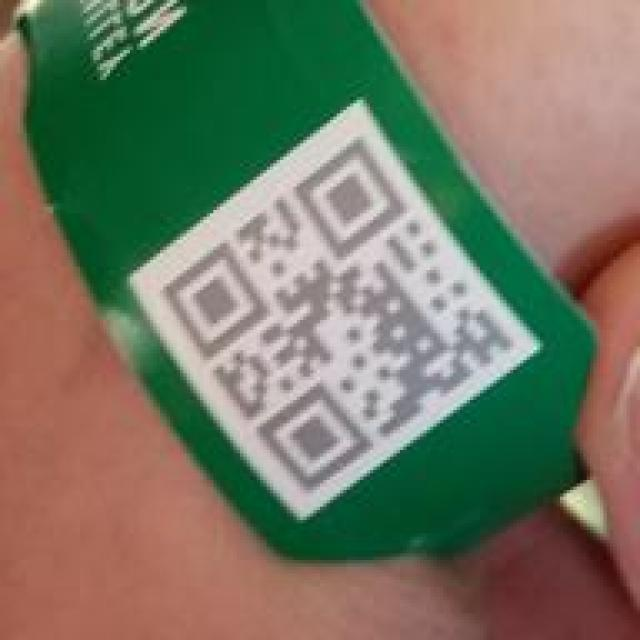qr_code: (164, 137, 514, 491)
